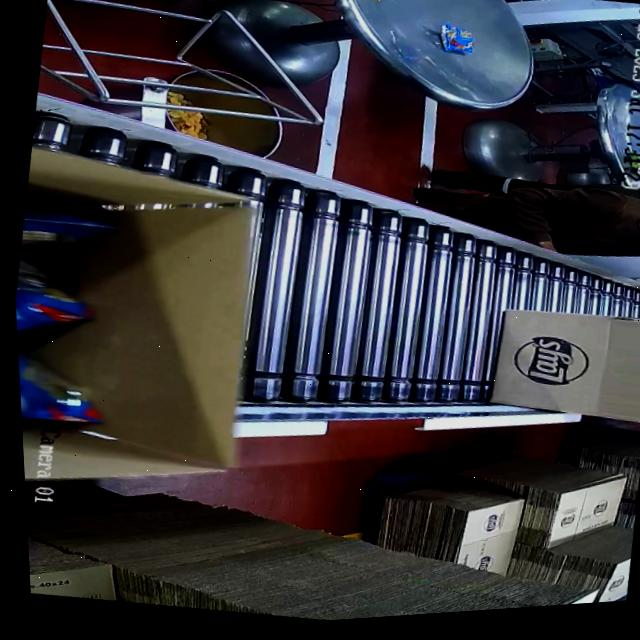PAPRIKA: (10, 195, 124, 425)
